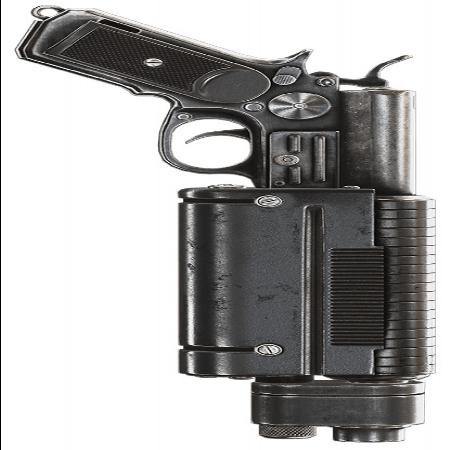Pistol: (28, 18, 446, 441)
